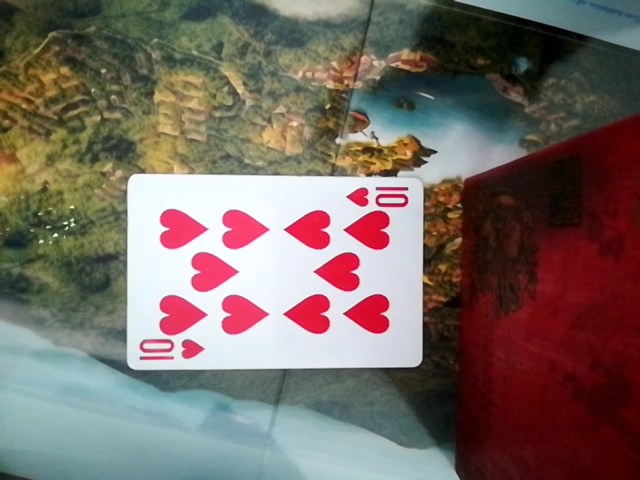hx 10: (119, 176, 426, 374)
